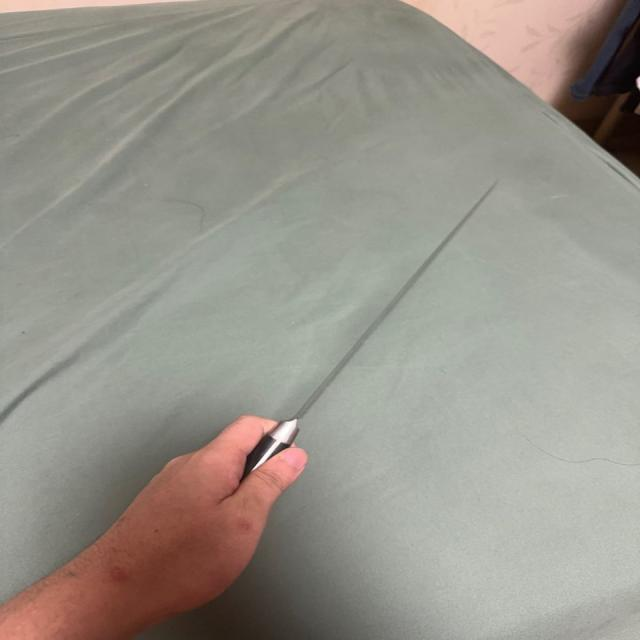knife: (240, 168, 507, 488)
